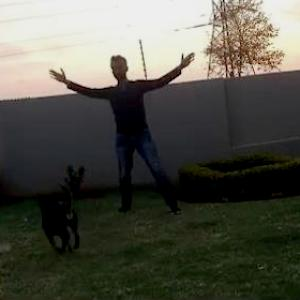takeoff: (61, 46, 214, 219)
